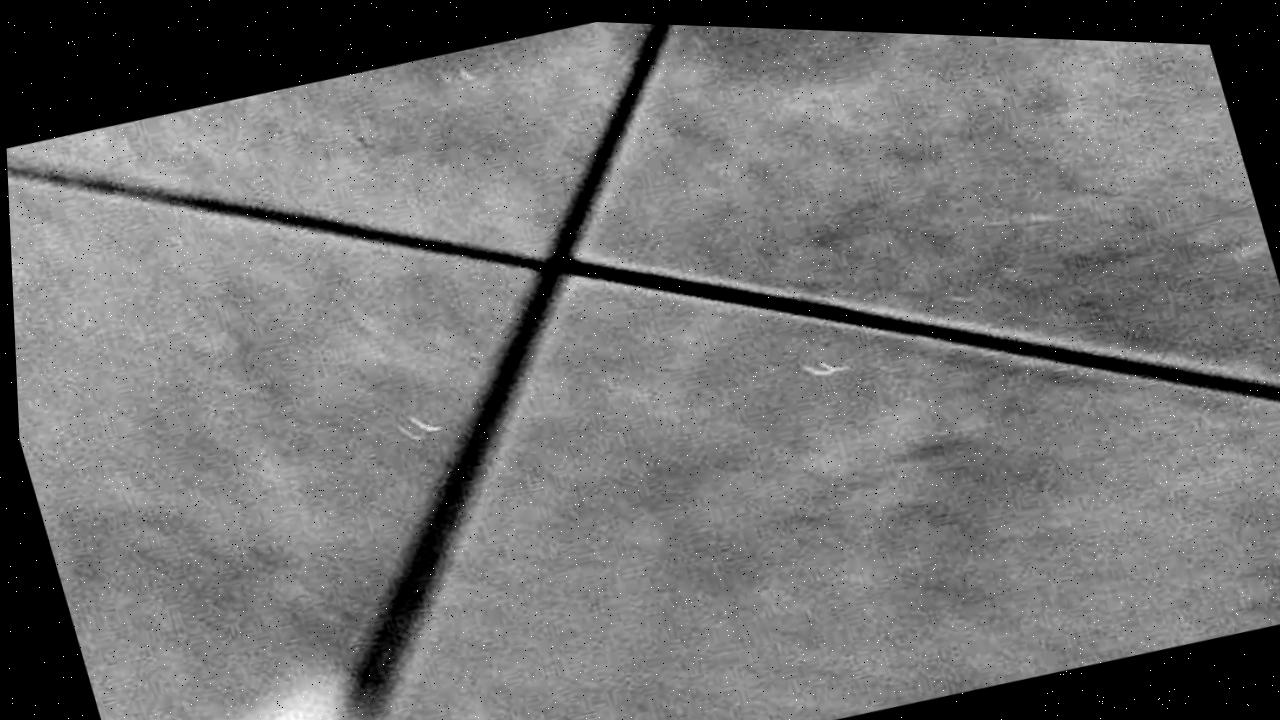Water Stains: (343, 10, 920, 202)
drinks Stains: (89, 635, 427, 720)
